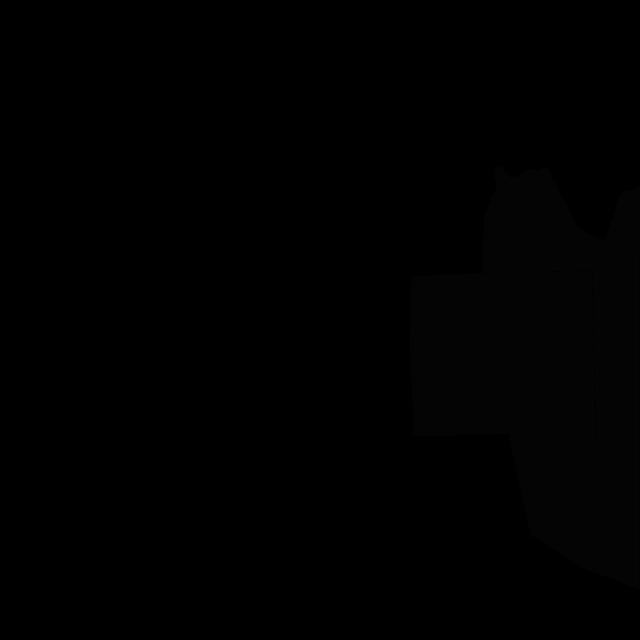soft_plastic: (482, 166, 640, 589), (410, 271, 595, 442)
